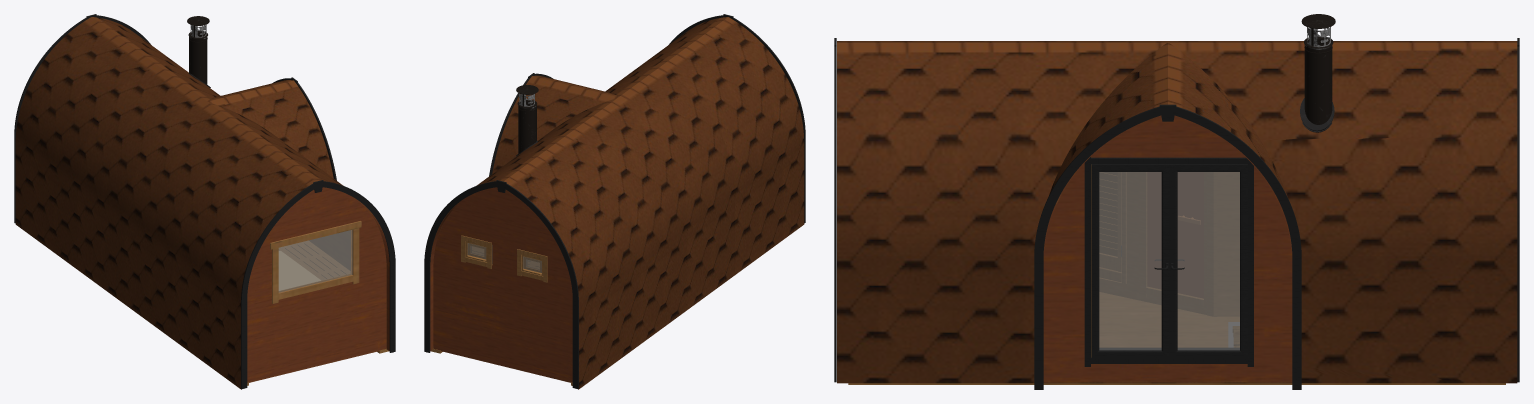
3 renders of one model, left to right at view 1: azimuth 30°, elevation 25°; view 2: azimuth 150°, elevation 25°; view 3: azimuth 270°, elevation 25°, orthographic. The views are drawn at different scales.
Parts seen in each view (by area): view 1: banya_new_ready, Box 1; view 2: banya_new_ready, Box 2; view 3: banya_new_ready, Box.
Part boxes in pixels (x1,y1,x2,y2): banya_new_ready: (14, 14, 395, 389); Box 1: (278, 230, 352, 292); banya_new_ready: (424, 14, 805, 389); Box 2: (467, 243, 541, 272); banya_new_ready: (834, 14, 1519, 389); Box: (1099, 172, 1239, 350).
Size of the model in its own units: 2 by 2.62 by 4.8.
Materials: 6 (3 with a texture image).
